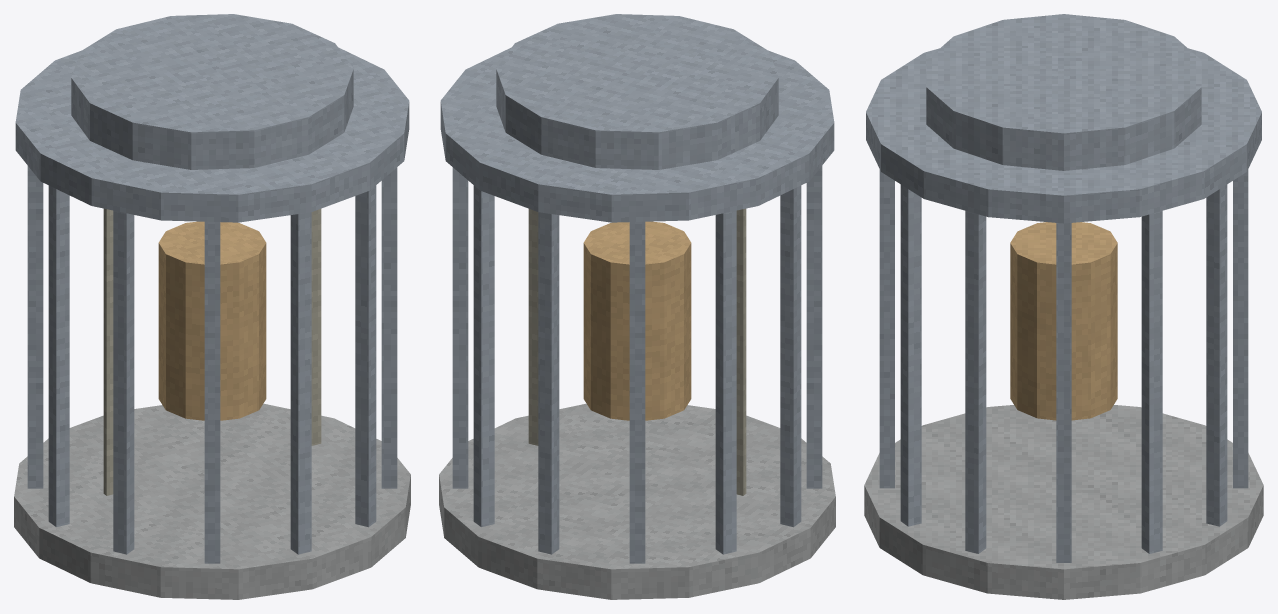
File: level_blockout_lighthouse_lantern_cage.glb
3 renders of one model, left to right at view 1: azimuth 30°, elevation 25°; view 2: azimuth 150°, elevation 25°; view 3: azimuth 270°, elevation 25°, orthographic.
Parts seen in each view (by area): view 1: level_blockout_lighthouse_lantern_cage; view 2: level_blockout_lighthouse_lantern_cage; view 3: level_blockout_lighthouse_lantern_cage.
Part boxes in pixels (box(x1,y1,x2,y2)): level_blockout_lighthouse_lantern_cage: box(14, 14, 410, 599); level_blockout_lighthouse_lantern_cage: box(439, 14, 835, 599); level_blockout_lighthouse_lantern_cage: box(864, 14, 1263, 599).
Size of the model in its own units: 2.6 by 3.17 by 2.6.
Materials: 4 (4 with a texture image).
